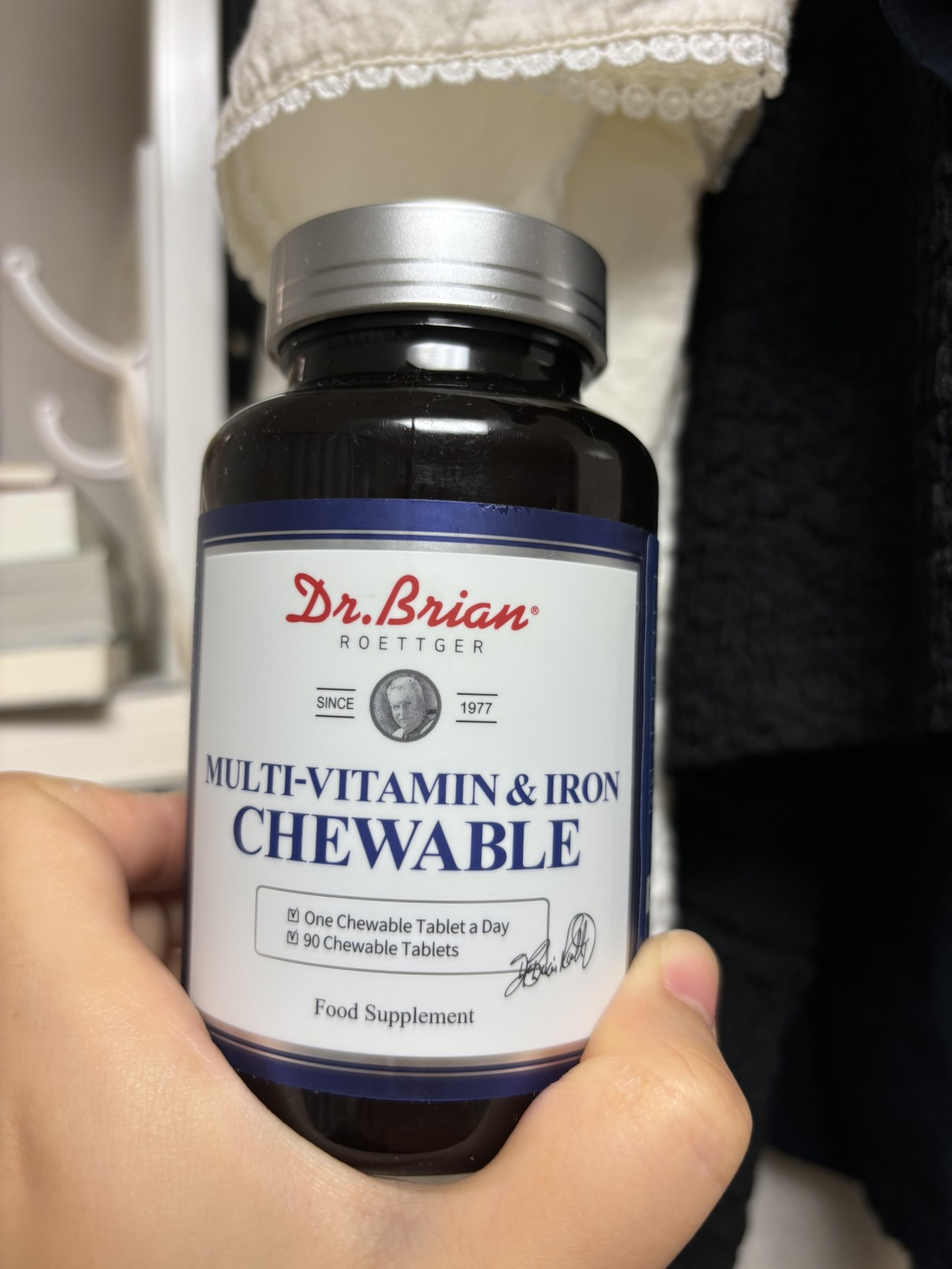supplement_label: (147, 514, 683, 1085)
